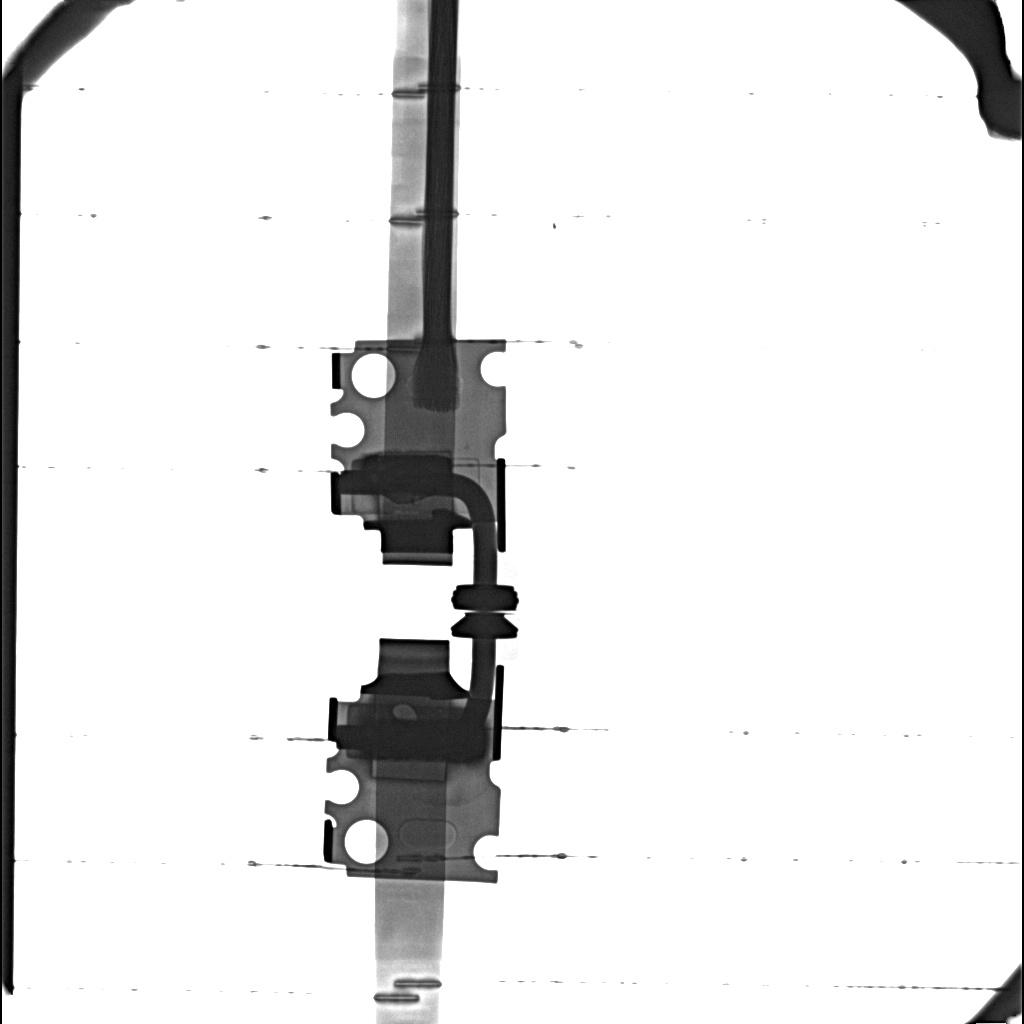气孔: (369, 762, 449, 782)
气泡: (392, 703, 418, 720)
水纹: (360, 720, 489, 763), (360, 456, 453, 497)
